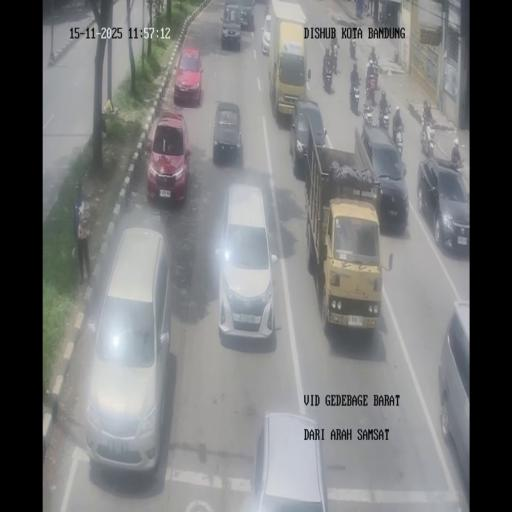car: (84, 228, 171, 472), (217, 180, 276, 342), (246, 412, 326, 510), (438, 304, 470, 502), (418, 157, 469, 250), (146, 110, 190, 205), (289, 99, 325, 177), (212, 102, 242, 166), (173, 46, 203, 106), (220, 3, 242, 49), (237, 0, 255, 29), (261, 13, 271, 55)
motorcycle: (420, 115, 434, 155), (322, 58, 334, 94), (350, 78, 360, 113), (378, 106, 390, 130), (363, 101, 374, 126), (395, 127, 404, 156), (451, 149, 464, 169), (331, 42, 339, 74), (370, 65, 380, 90), (368, 46, 378, 65), (350, 38, 356, 59), (362, 0, 369, 17), (421, 110, 426, 126), (378, 10, 384, 23)
truck: (300, 118, 389, 331), (266, 0, 307, 120)
